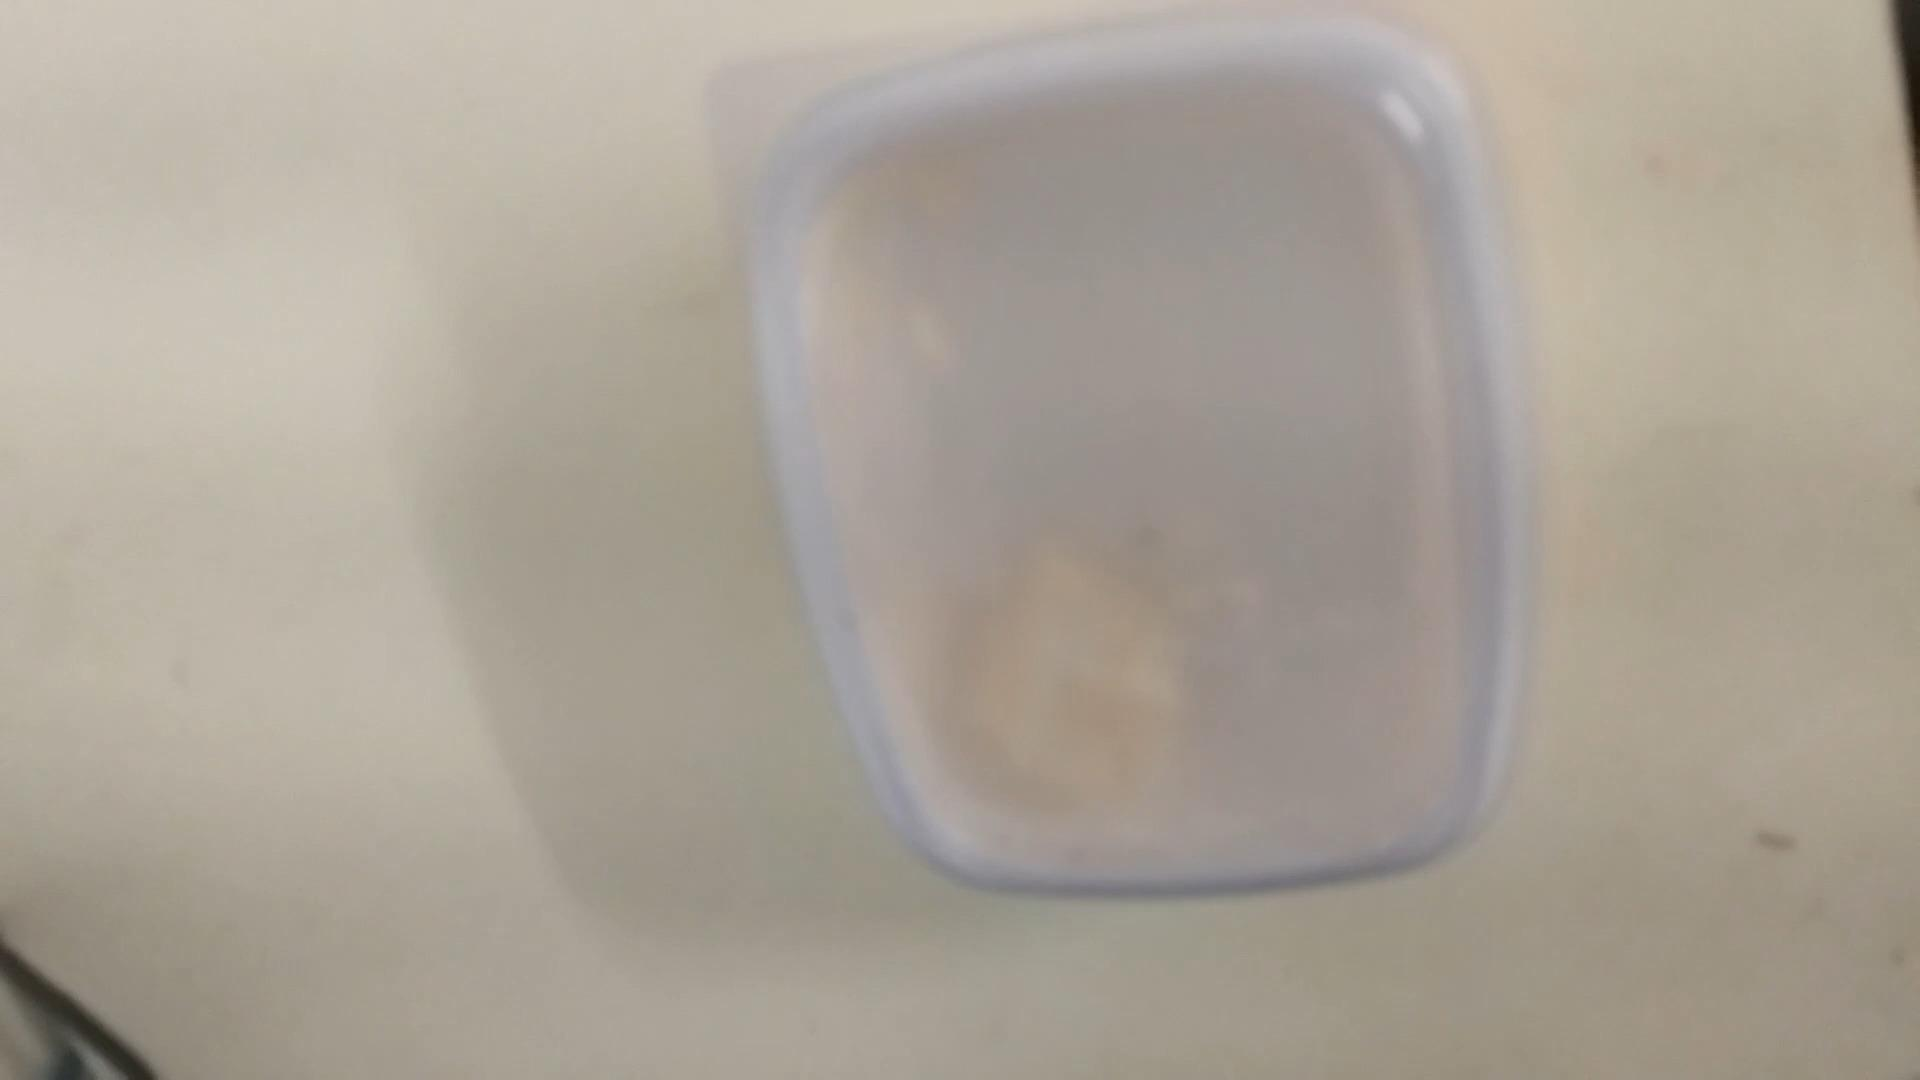butter: (731, 9, 1536, 919)
